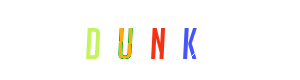D: (64, 0, 144, 80)
K: (148, 0, 228, 80)
N: (110, 0, 190, 80)
U: (104, 0, 184, 80)
